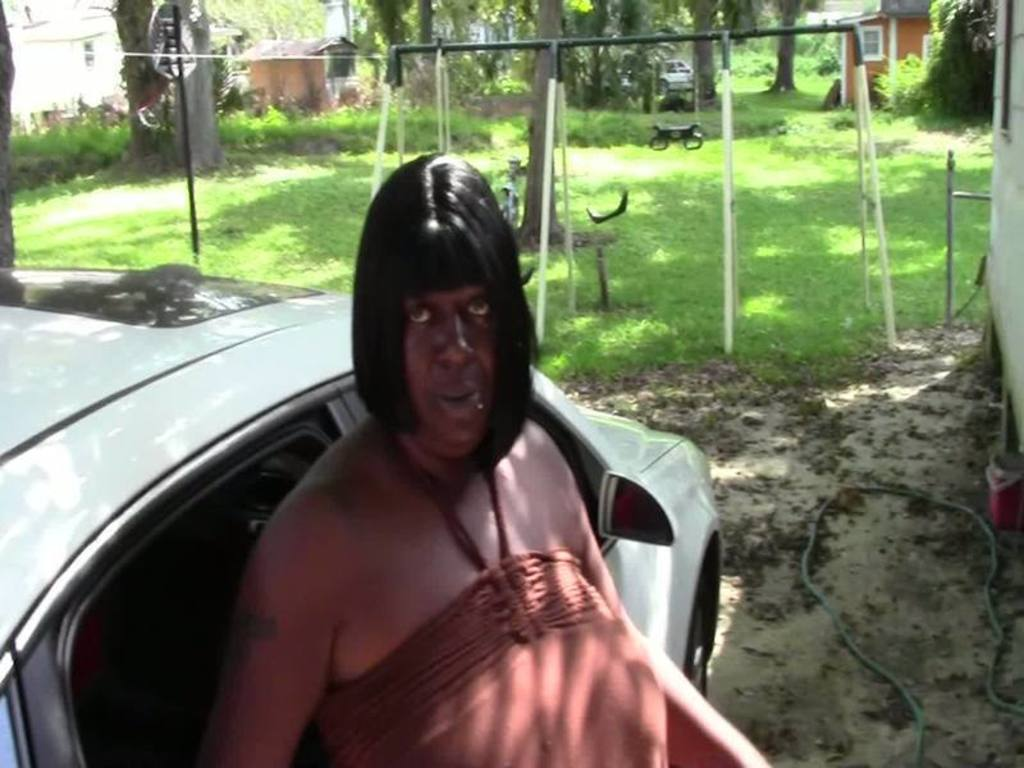Car: (0, 263, 723, 766), (640, 56, 692, 96)
